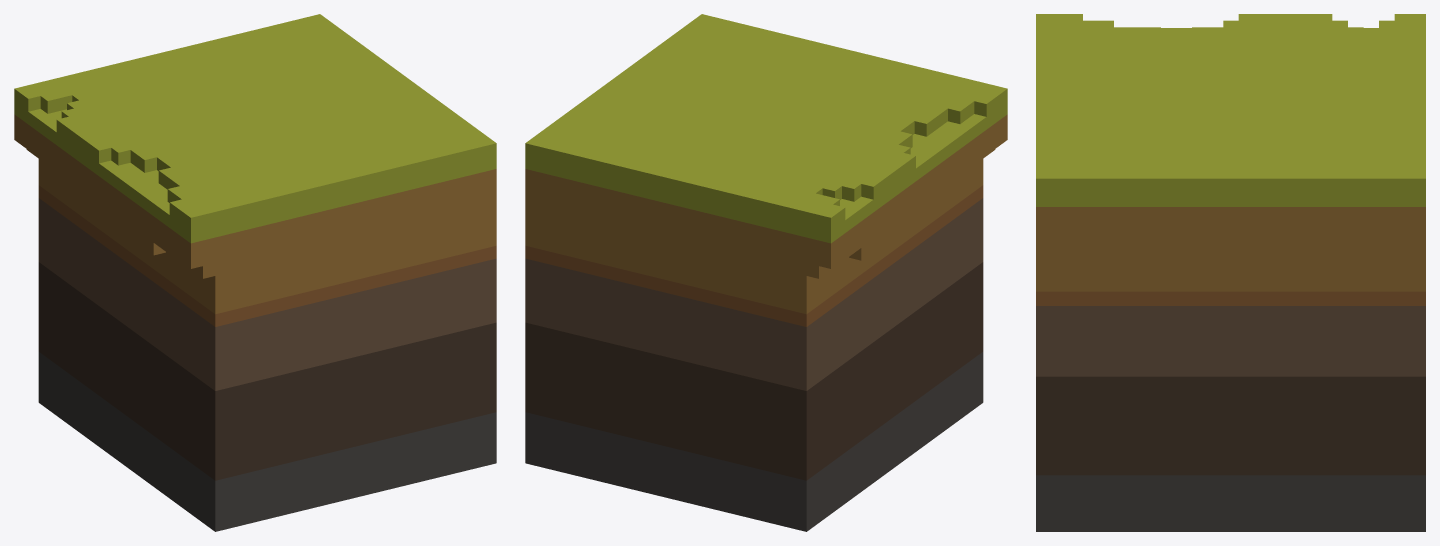
File: Voxels-37.obj
The picture shows the model from 3 angles, left to right: view 1: azimuth 30°, elevation 25°; view 2: azimuth 150°, elevation 25°; view 3: azimuth 270°, elevation 25°; orthographic projection. The views are drawn at different scales.
Visible parts, largest first — view 1: Voxels-37; view 2: Voxels-37; view 3: Voxels-37.
Boxes of the visible parts, box(x1,y1,x2,y2) form: Voxels-37: box(14, 14, 496, 531); Voxels-37: box(525, 14, 1007, 531); Voxels-37: box(1036, 14, 1425, 531).
Bounding box in the file's own units: 25 × 25 × 25.
1 material, 1 textured.
